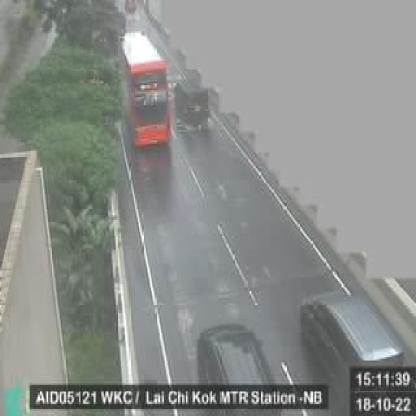Bus: (119, 28, 170, 150)
Car: (299, 288, 407, 376), (198, 324, 290, 416), (173, 81, 211, 127)
